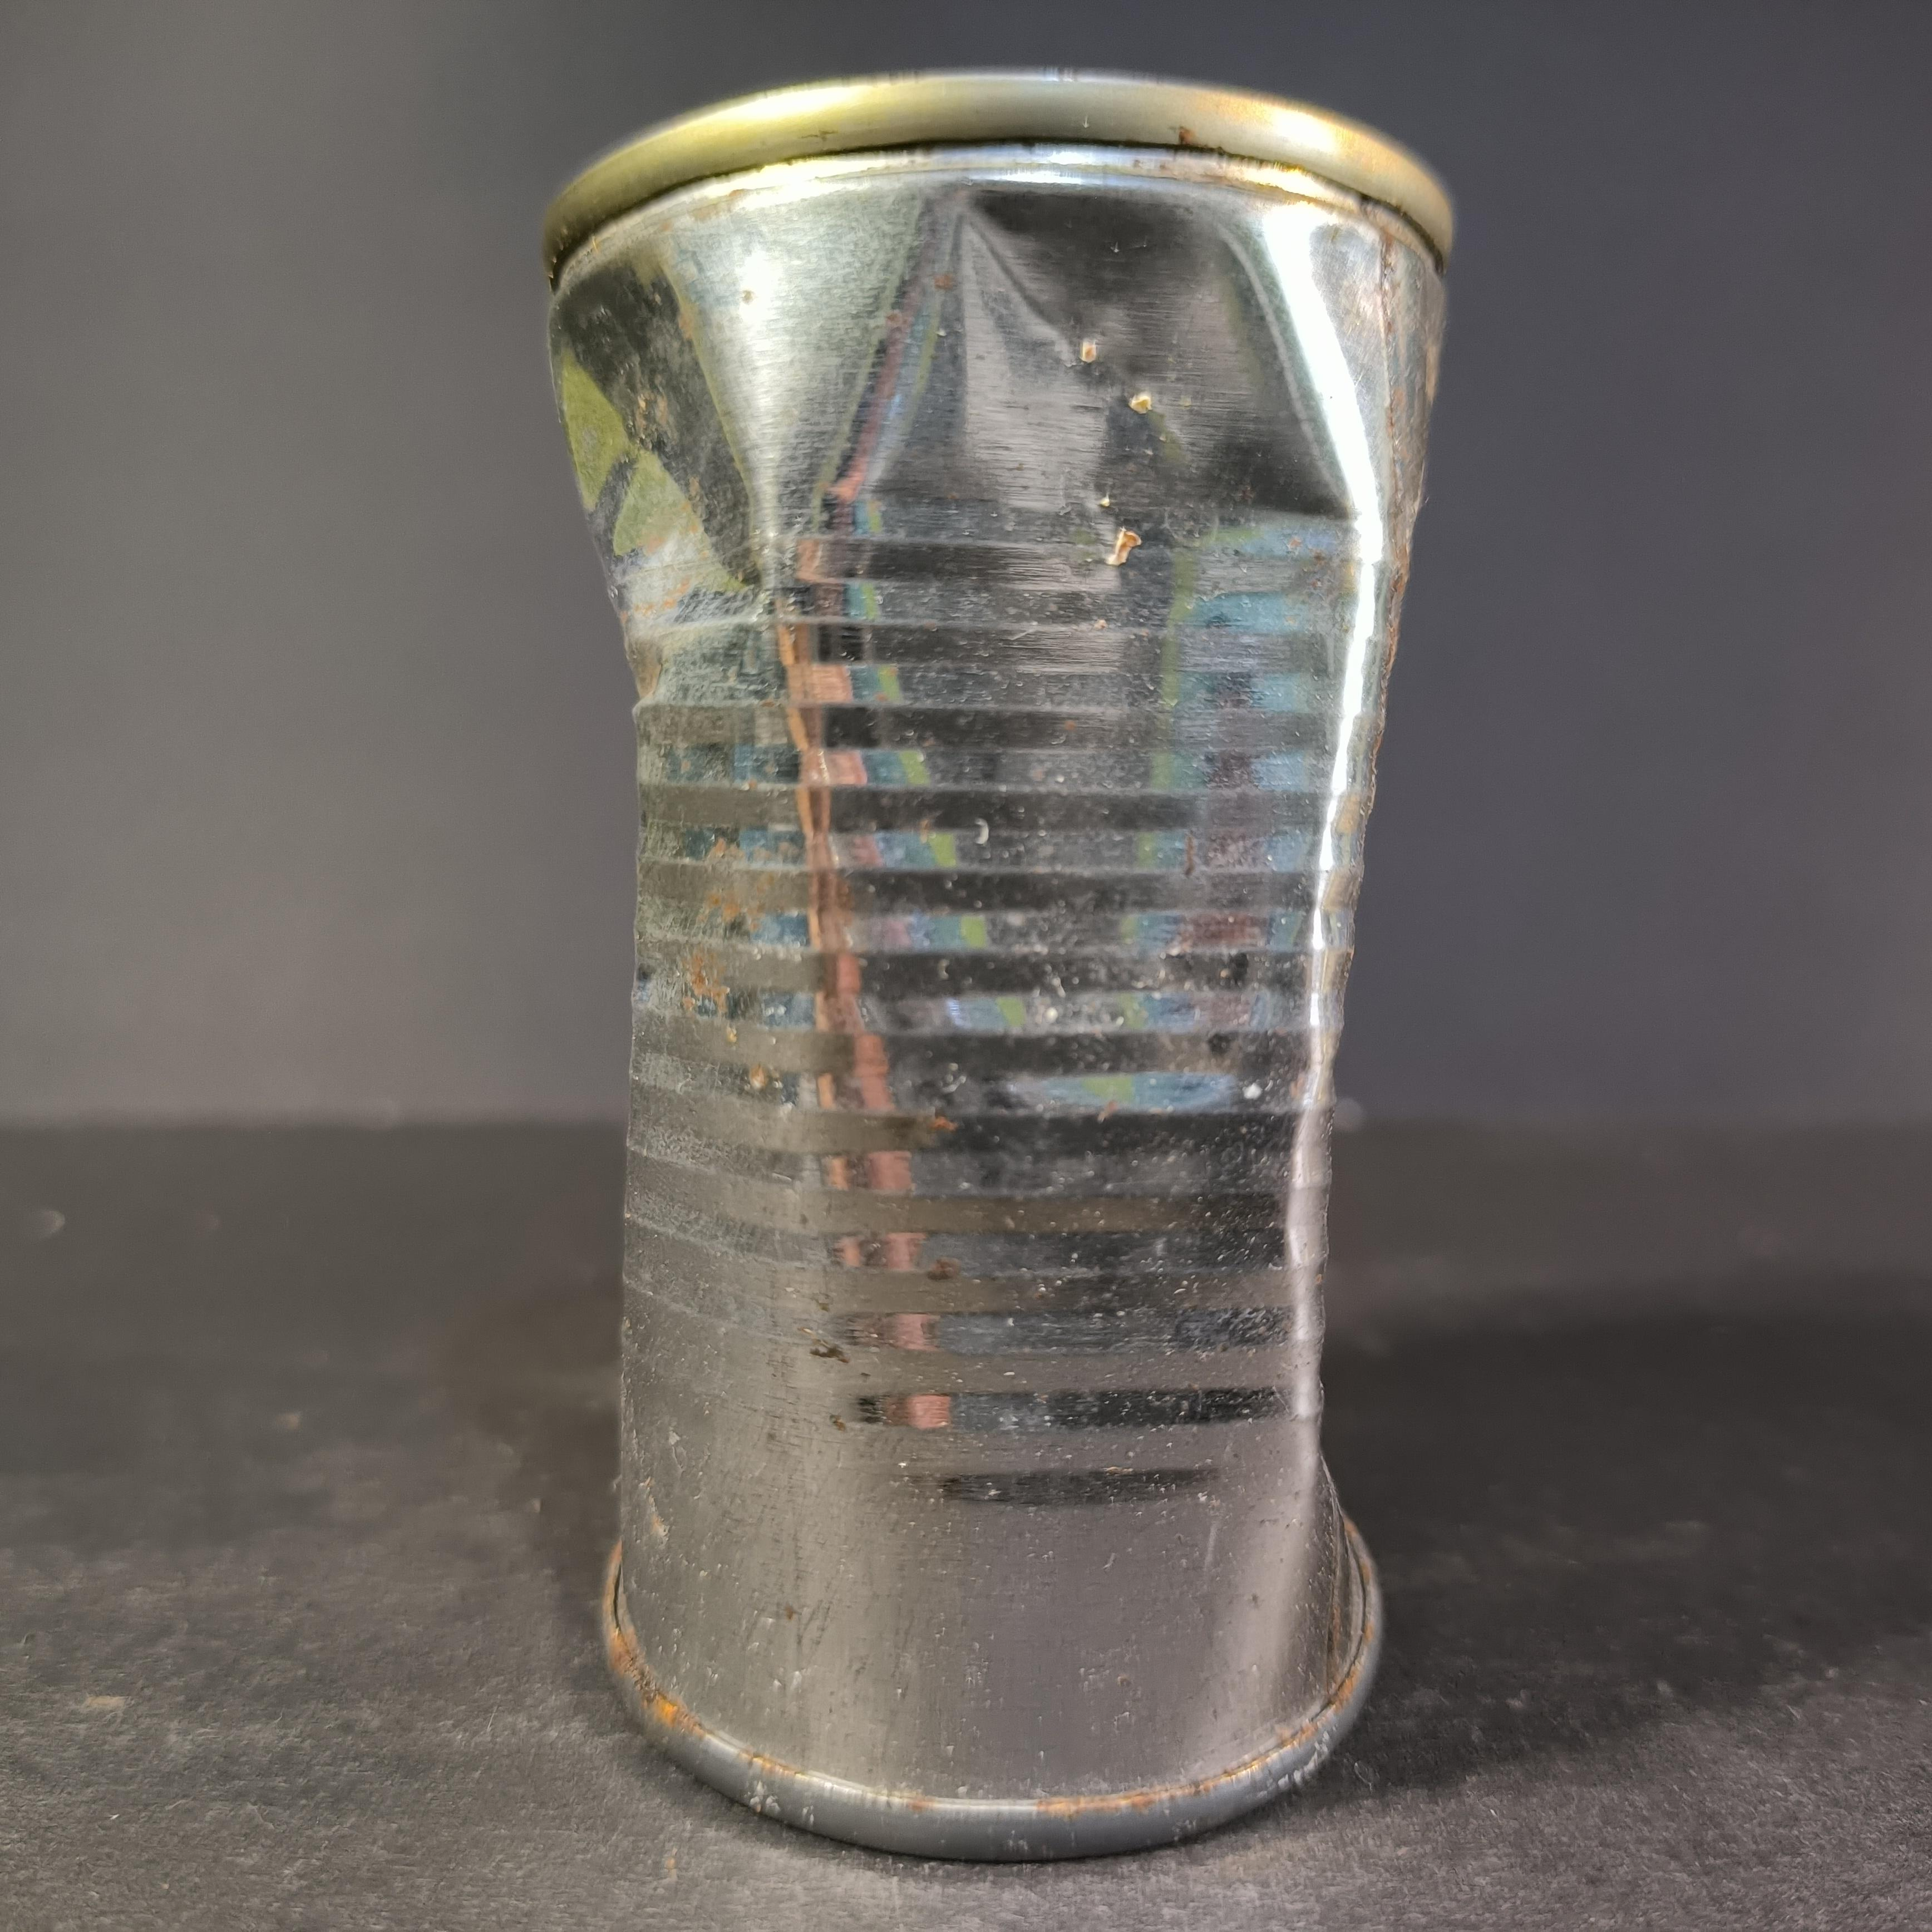Major Defect: (538, 69, 1461, 1865)
